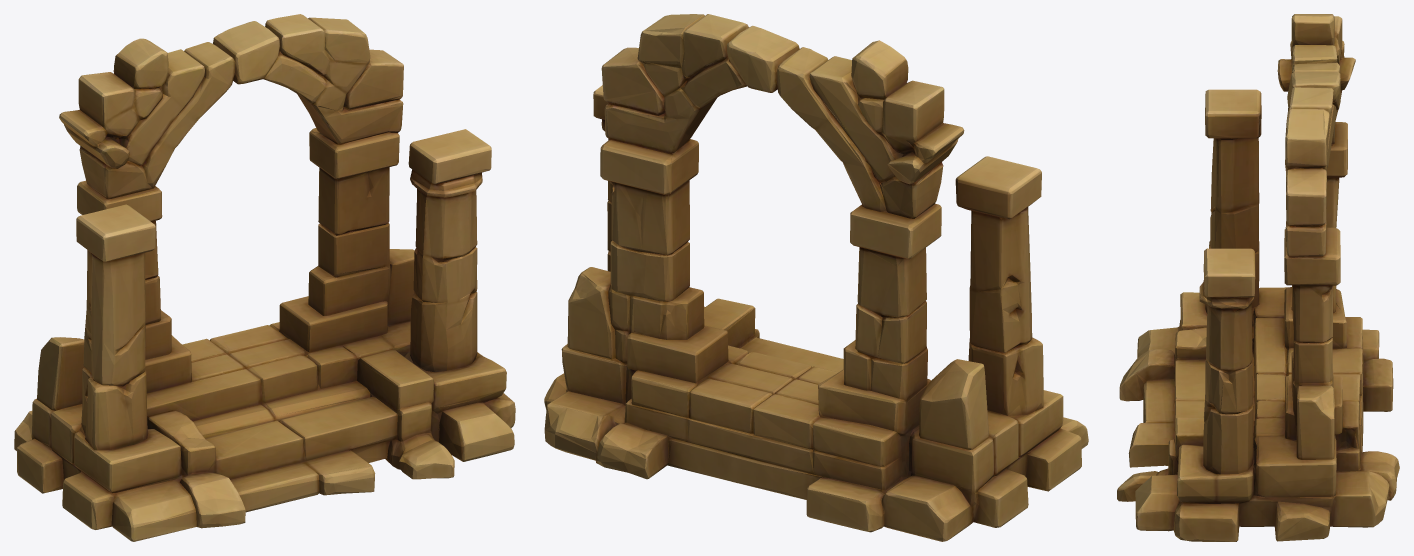
The model's file is sandstone_ruins.glb.
The picture shows the model from 3 angles, left to right: view 1: azimuth 30°, elevation 25°; view 2: azimuth 150°, elevation 25°; view 3: azimuth 270°, elevation 25°; orthographic projection. The views are drawn at different scales.
Parts seen in each view (by area): view 1: world; view 2: world; view 3: world.
Part boxes in pixels (x1,y1,x2,y2): world: (14,14,515,541); world: (544,14,1088,541); world: (1117,14,1399,541).
Size of the model in its own units: 0.9977 by 0.92 by 0.6008.
1 material, 1 textured.
